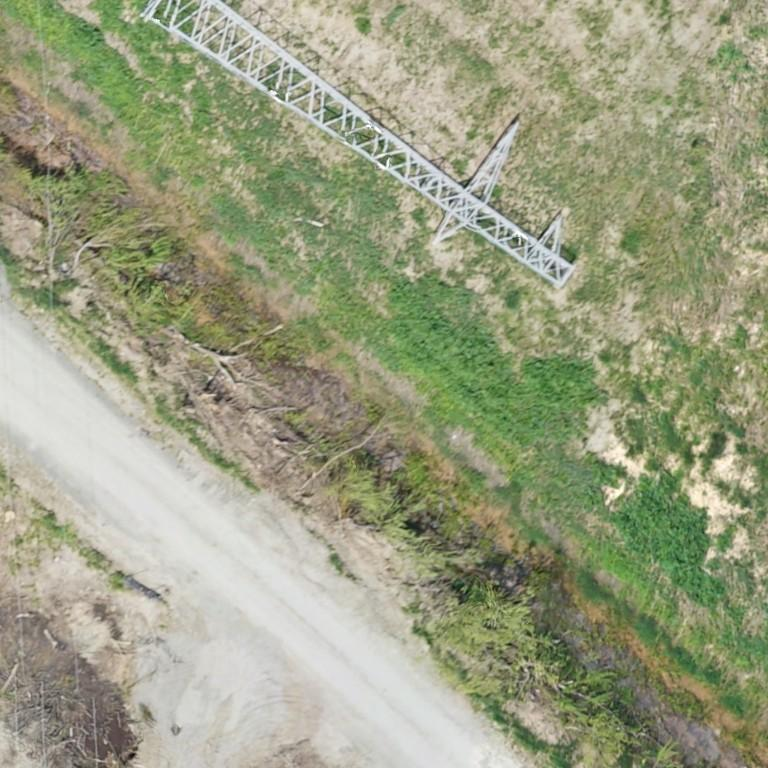hogweed: (391, 275, 604, 443), (612, 474, 720, 601)
